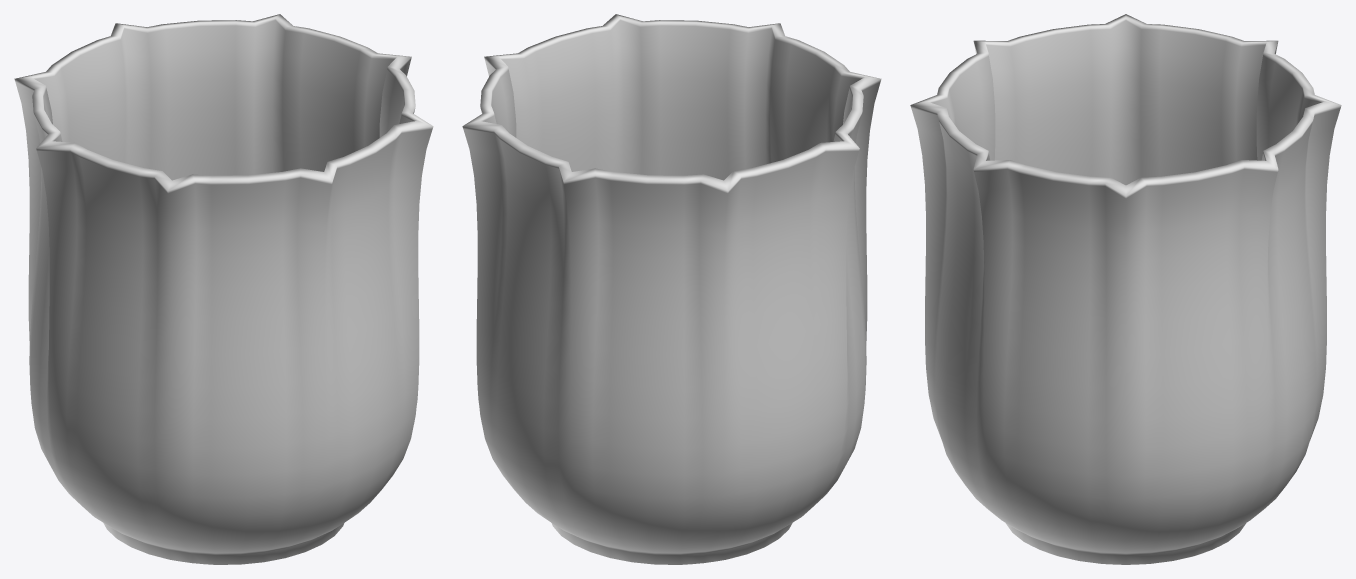
File: GlassOfWhisky-modelonly-baked.glb
The picture shows the model from 3 angles, left to right: view 1: azimuth 30°, elevation 25°; view 2: azimuth 150°, elevation 25°; view 3: azimuth 270°, elevation 25°; orthographic projection.
Parts seen in each view (by area): view 1: glass; view 2: glass; view 3: glass.
Part boxes in pixels (x1,y1,x2,y2): glass: (14, 14, 433, 564); glass: (462, 14, 881, 564); glass: (910, 14, 1341, 564).
Bounding box in the file's own units: 4.07 × 4.29 × 4.07.
2 materials, 2 textured.
